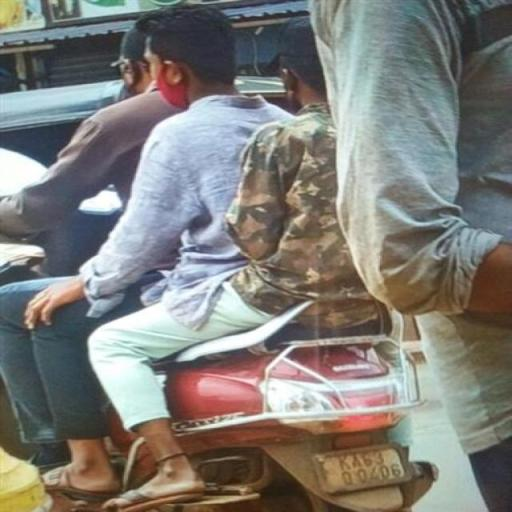tripple riding: (0, 7, 384, 273)
